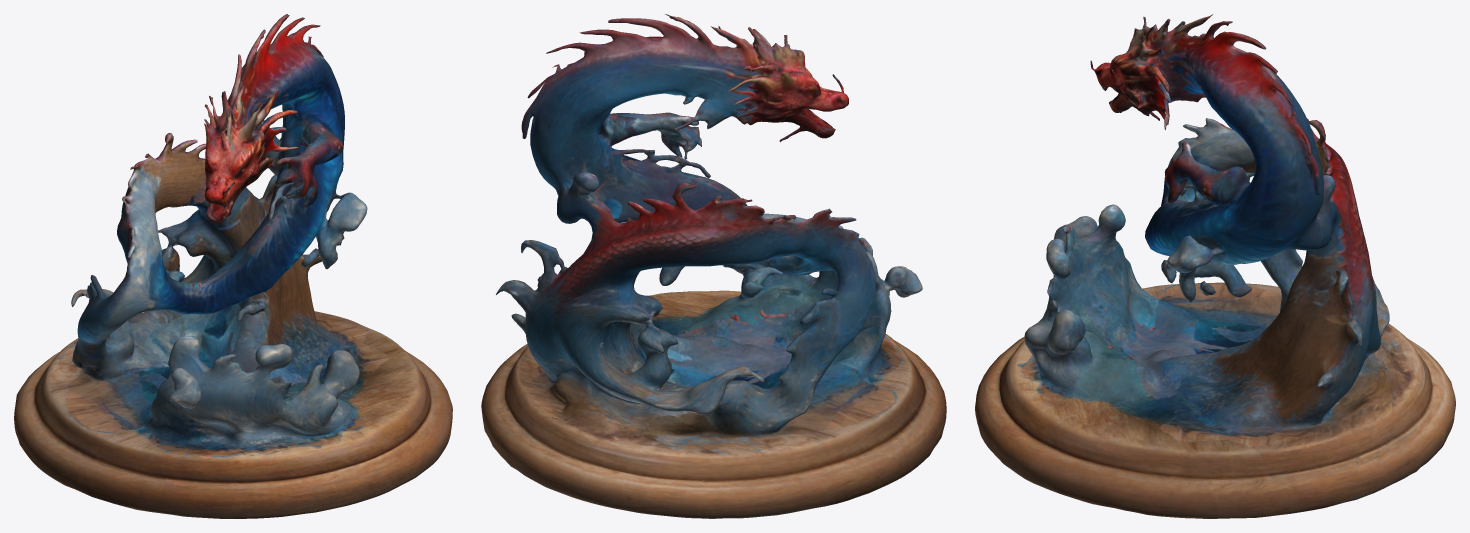
The model's file is A_red_dragon_leaping__1203055010_refine.fbx.
3 views of the same model, side by side, from view 1: azimuth 30°, elevation 25°; view 2: azimuth 150°, elevation 25°; view 3: azimuth 270°, elevation 25° (orthographic). The views are drawn at different scales.
Visible parts, largest first — view 1: Mesh1_Mesh1.023; view 2: Mesh1_Mesh1.023; view 3: Mesh1_Mesh1.023.
Boxes of the visible parts, left/top/right/bottom form: Mesh1_Mesh1.023: left=14, top=14, right=452, bottom=518; Mesh1_Mesh1.023: left=481, top=14, right=946, bottom=518; Mesh1_Mesh1.023: left=975, top=14, right=1455, bottom=518.
Size of the model in its own units: 200 by 192 by 200.
Materials: 1 (1 with a texture image).
